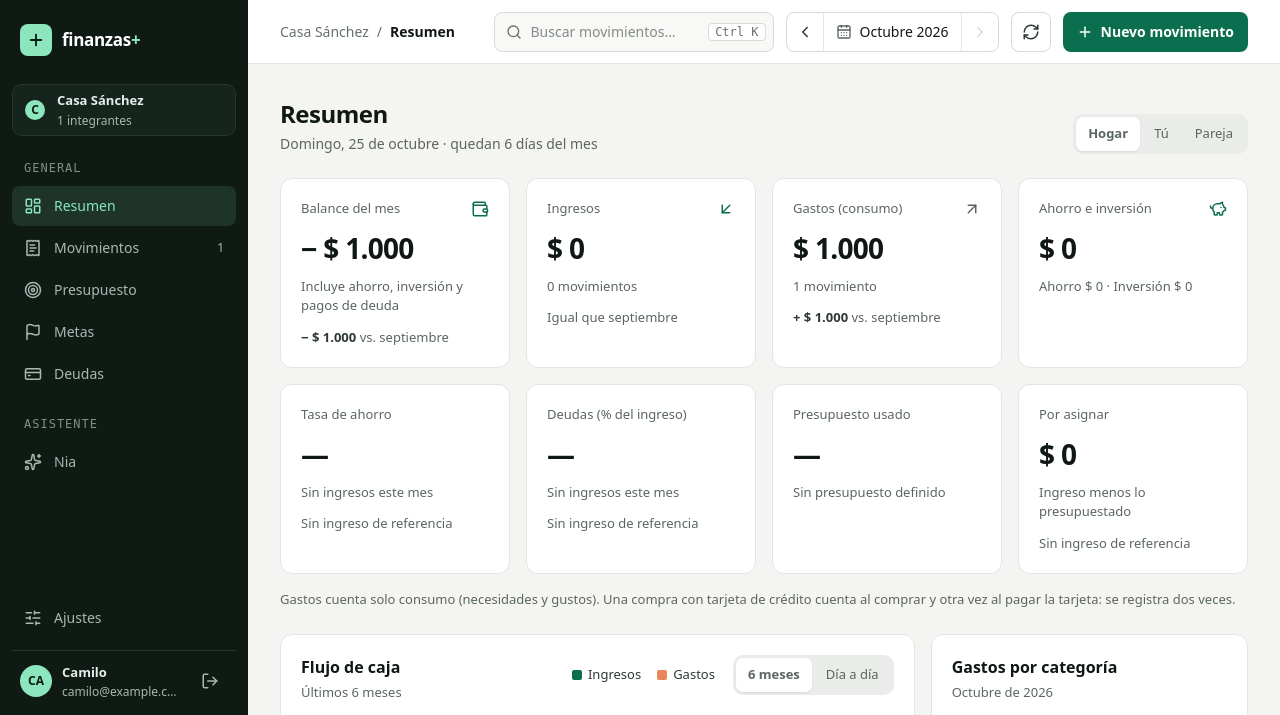
Test: App debts section › lazily opens Deudas from the sidebar, filtered by the scope control, without the period switcher
Expected: the heading "Resumen" is shown, [280,97,388,130]
Expected: the element named "Periodo" is shown, [786,12,998,52]
Click the button "Deudas" at [124, 374], box [12,354,236,394]
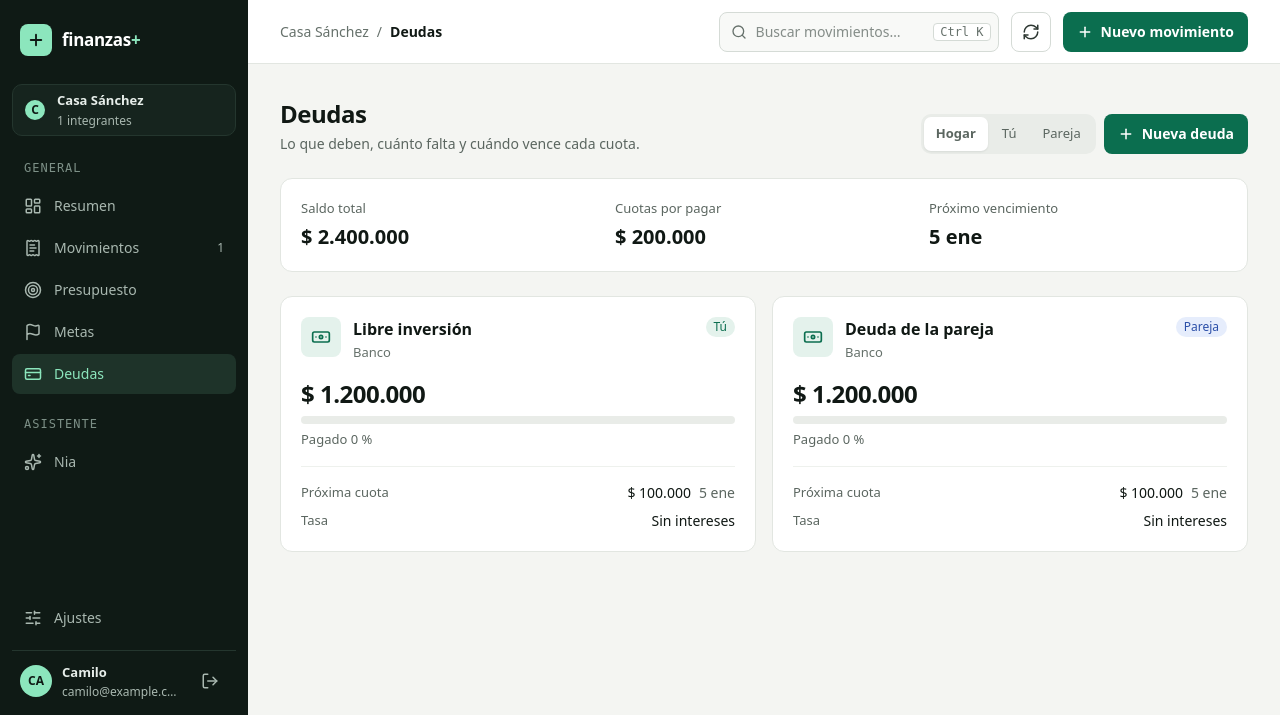
Expected: the heading "Deudas" is shown, [280,97,366,130]
Expected: the element "Libre inversión" is shown, [280,296,756,552]
Expected: the element "Deuda de la pareja" is shown, [772,296,1248,552]
Click the button "Tú" at [1009, 134], box [990,117,1028,151]
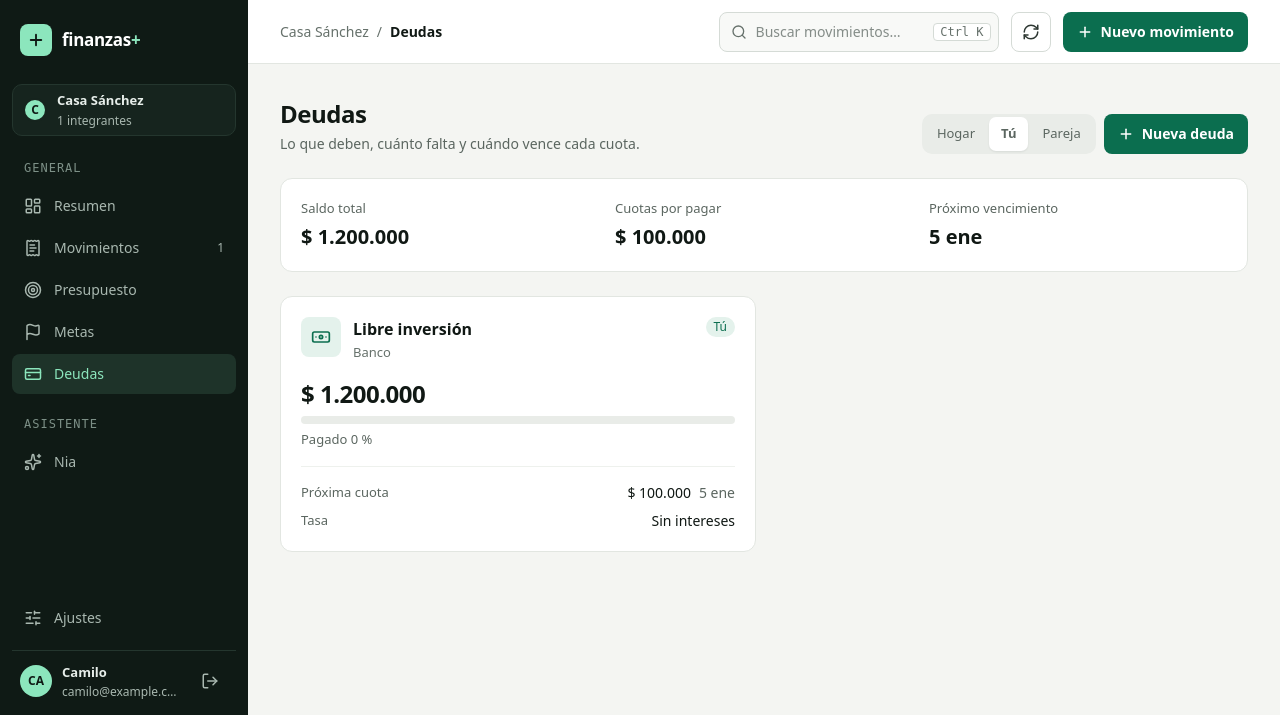
Expected: the element "Libre inversión" is shown, [280,296,756,552]
Expected: the button "Deuda de la pareja" is gone
